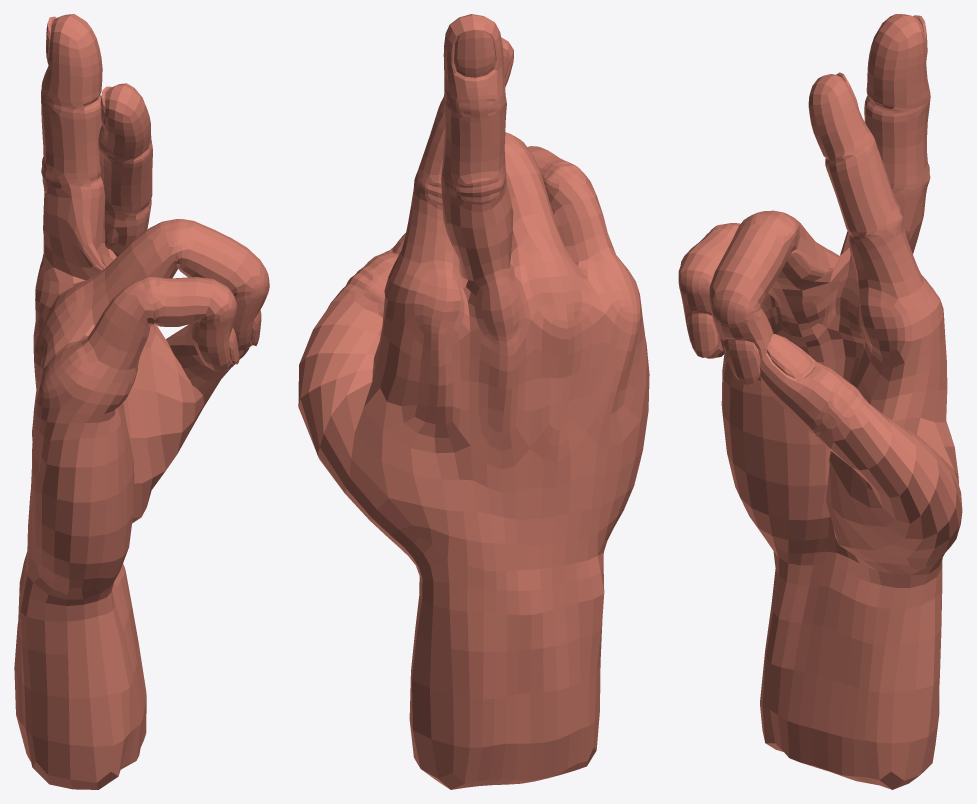
The model's file is ray.glb.
3 views of the same model, side by side, from view 1: azimuth 30°, elevation 25°; view 2: azimuth 150°, elevation 25°; view 3: azimuth 270°, elevation 25° (orthographic). The views are drawn at different scales.
Parts seen in each view (by area): view 1: ZBrushPolyMesh3D; view 2: ZBrushPolyMesh3D; view 3: ZBrushPolyMesh3D.
Boxes of the visible parts, <box> form: ZBrushPolyMesh3D: <box>14,14,269,789</box>; ZBrushPolyMesh3D: <box>298,14,649,789</box>; ZBrushPolyMesh3D: <box>678,14,962,789</box>.
Size of the model in its own units: 1.97 by 5.4 by 1.85.
